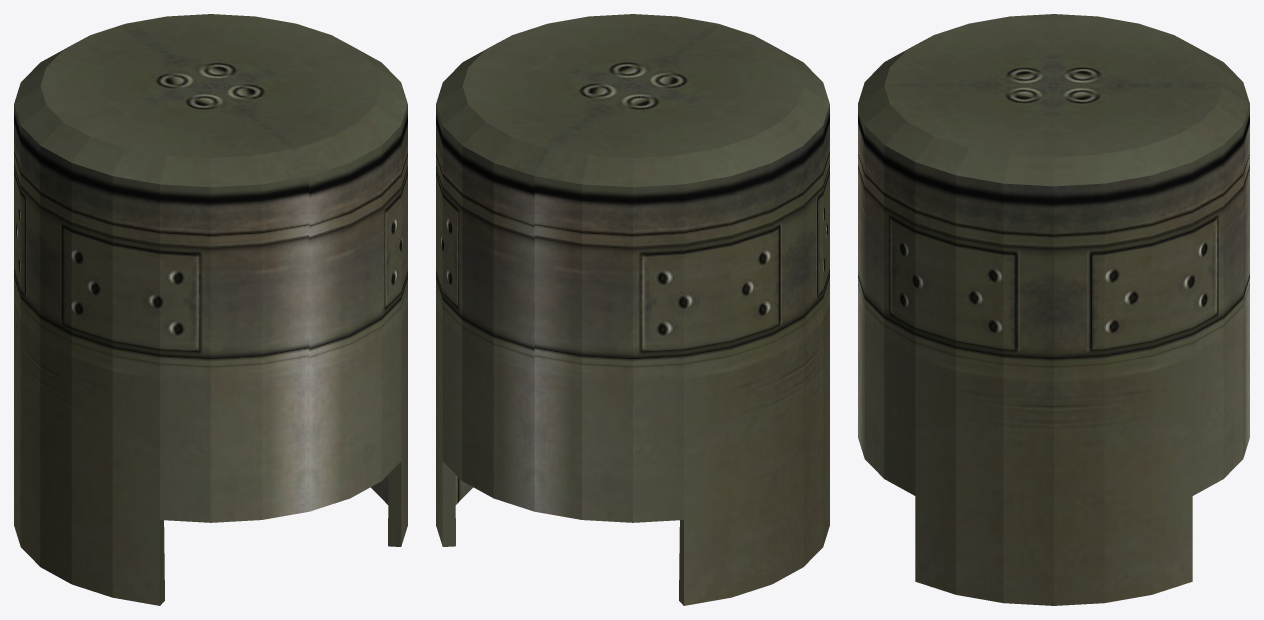
Rendered from Piston.glb.
The picture shows the model from 3 angles, left to right: view 1: azimuth 30°, elevation 25°; view 2: azimuth 150°, elevation 25°; view 3: azimuth 270°, elevation 25°; orthographic projection.
Visible parts, largest first — view 1: Circle.003; view 2: Circle.003; view 3: Circle.003.
Part boxes in pixels (x1,y1,x2,y2): Circle.003: (14, 14, 407, 605); Circle.003: (436, 14, 829, 605); Circle.003: (858, 14, 1249, 605).
Size of the model in its own units: 4.16 by 5.13 by 4.16.
1 material, 1 textured.
